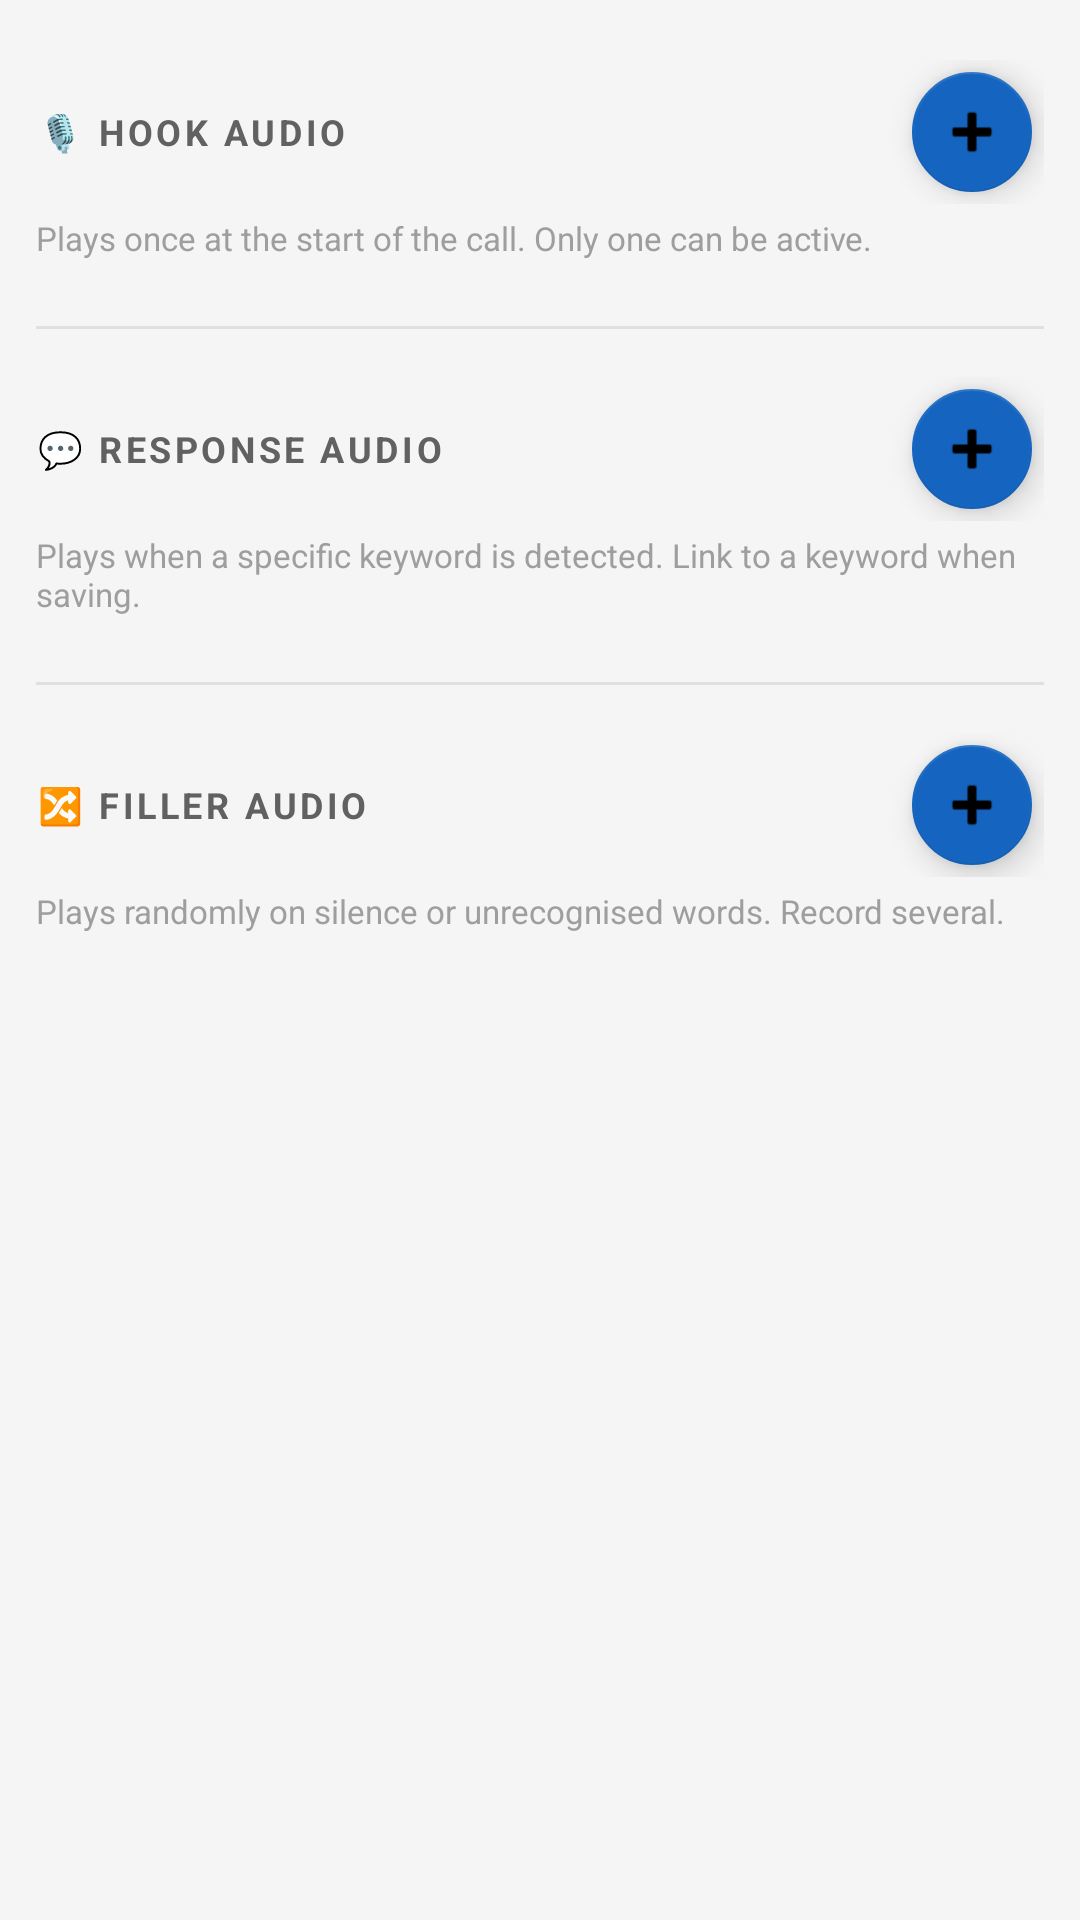

Icon bounding boxes for this 1080*1920 phone screenshot, format (x1, y1, x2, y2):
add: (912, 72, 1034, 192), (912, 389, 1034, 511), (912, 745, 1034, 870)
